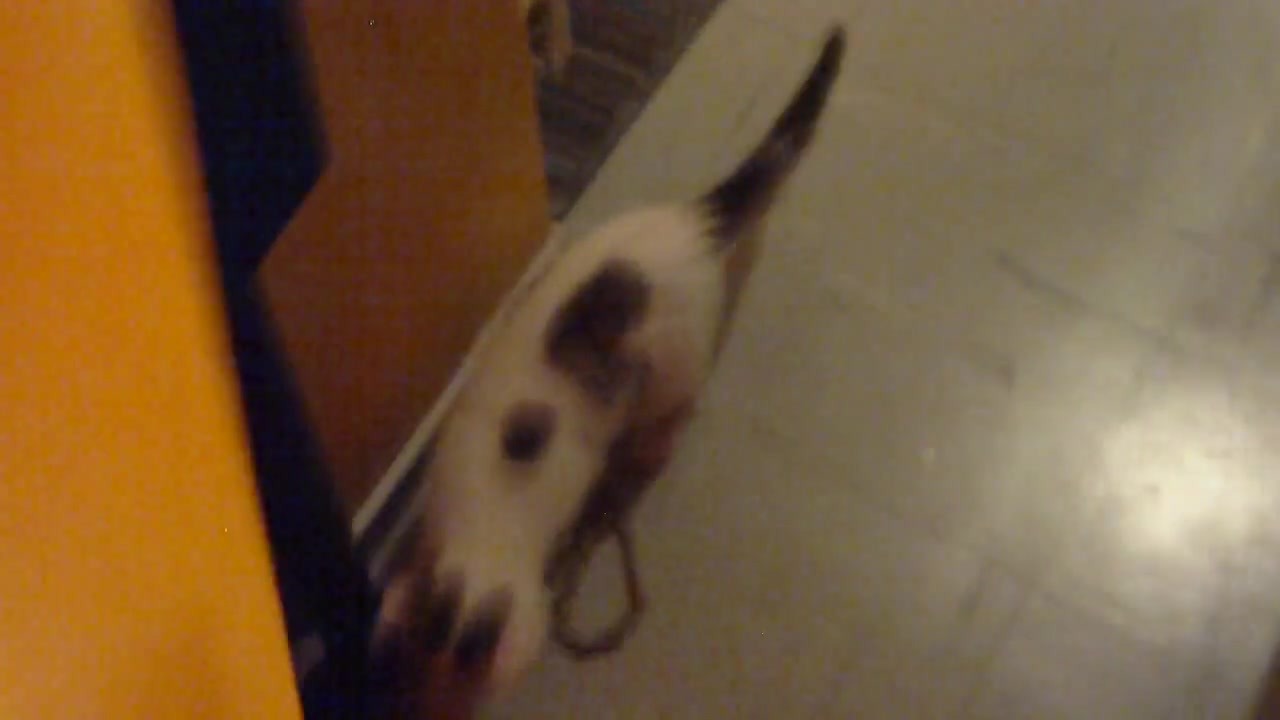cat: (354, 24, 853, 716)
